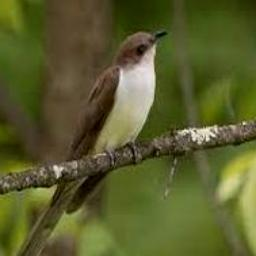Cuckoo: (0, 29, 169, 256)
